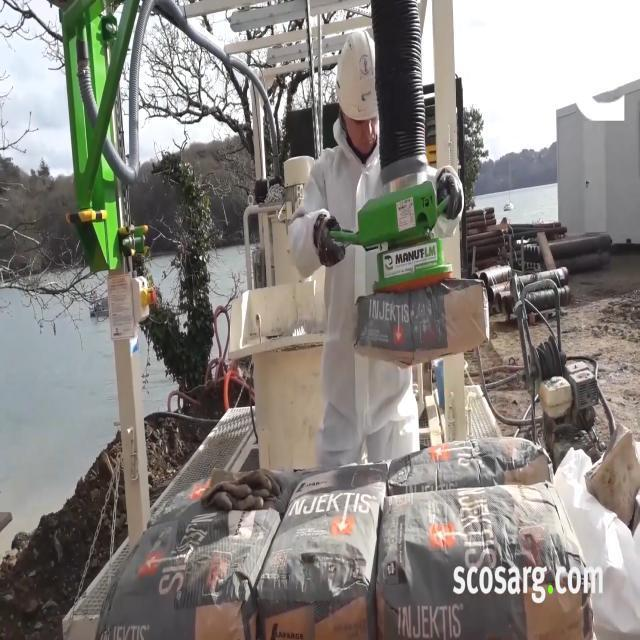gunny_bag: (377, 484, 603, 640), (96, 502, 280, 640), (257, 464, 387, 640), (356, 279, 490, 363), (388, 438, 553, 495)
